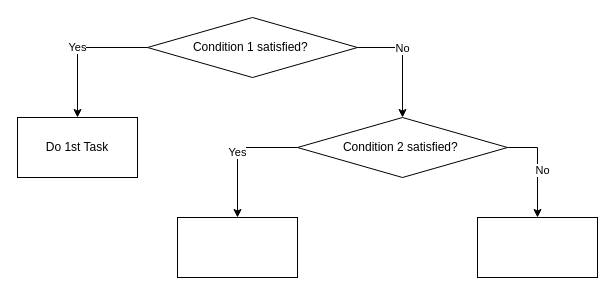
This 615x295 diagram has some shape labels left out. The shapes that lost their labels are listed below. From the top down, each one's box as (x1, y1, x2, y2) in pixels, then its label:
(176, 216, 298, 278): Do 2nd Task
(476, 216, 598, 278): Do 3rd Task
